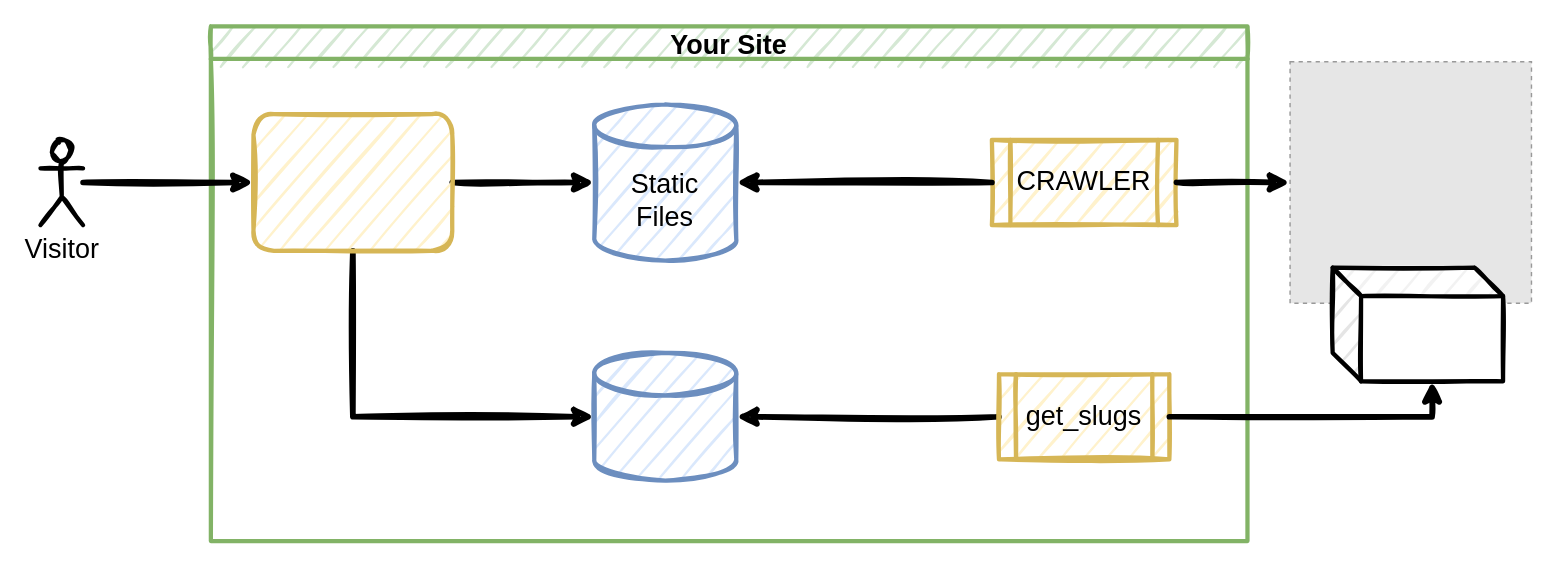
This 1556x568 diagram has some shape labels left out. Grey dashed boxes stand in for pictures. The shapes that lost their labels are listed below. From the top down, each one's centre as x and y in pixels, then its label:
the point at 352,181: NGINX (OpenResty) + LUA
the point at 1417,324: API
the point at 664,416: slugs.json
